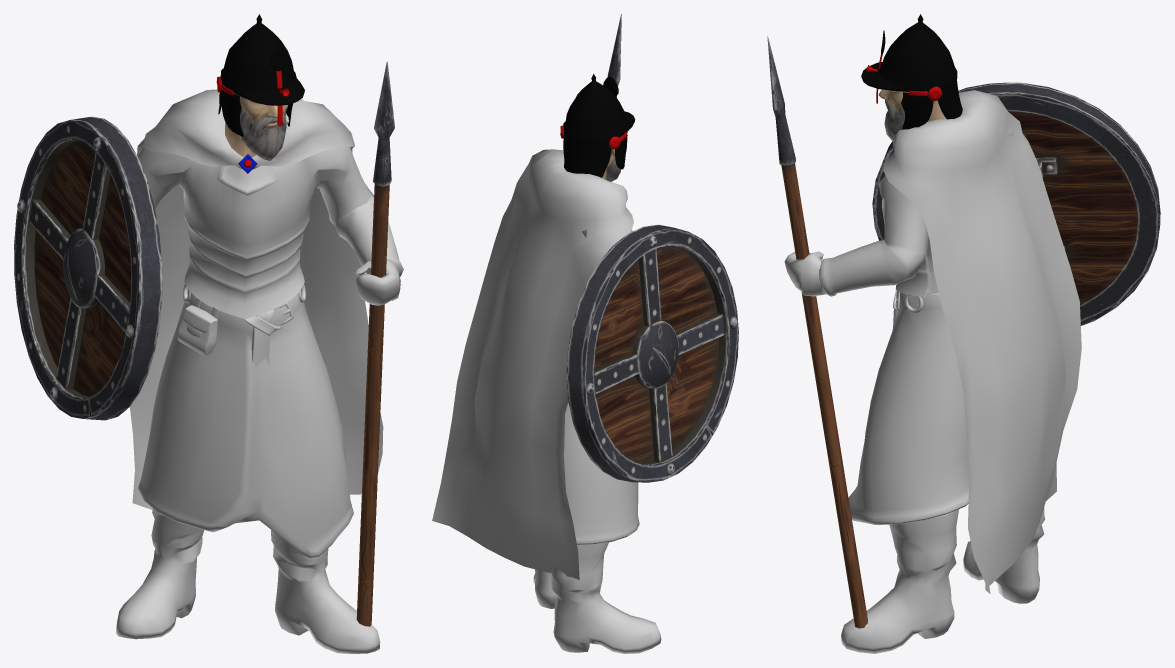
Rendered from guardWood2.fbx.
3 views of the same model, side by side, from view 1: azimuth 30°, elevation 25°; view 2: azimuth 150°, elevation 25°; view 3: azimuth 270°, elevation 25° (orthographic). The views are drawn at different scales.
Visible parts, largest first — view 1: skirt_low1, shield2, cloak_low1, body_low1, boots_low1, bark2, hemlet_low1, head_low1, bag_low1, belt1_low1; view 2: cloak_low1, shield2, boots_low1, skirt_low1, hemlet_low1, bark2; view 3: cloak_low1, shield2, skirt_low1, boots_low1, body_low1, bark2, hemlet_low1, head_low1.
Part boxes in pixels (left/top/right/bottom): skirt_low1: left=138, top=289, right=353, bottom=559; shield2: left=14, top=116, right=162, bottom=420; cloak_low1: left=130, top=89, right=383, bottom=509; body_low1: left=137, top=146, right=403, bottom=319; boots_low1: left=116, top=508, right=380, bottom=653; bark2: left=356, top=61, right=394, bottom=626; hemlet_low1: left=216, top=14, right=304, bottom=136; head_low1: left=225, top=93, right=288, bottom=169; bag_low1: left=177, top=298, right=218, bottom=355; belt1_low1: left=251, top=326, right=269, bottom=367; cloak_low1: left=432, top=149, right=633, bottom=579; shield2: left=566, top=224, right=738, bottom=482; boots_low1: left=533, top=542, right=661, bottom=653; skirt_low1: left=564, top=402, right=639, bottom=545; hemlet_low1: left=560, top=74, right=635, bottom=177; bark2: left=607, top=14, right=621, bottom=97; cloak_low1: left=883, top=90, right=1081, bottom=593; shield2: left=872, top=82, right=1160, bottom=325; skirt_low1: left=848, top=292, right=969, bottom=524; boots_low1: left=841, top=507, right=1044, bottom=653; body_low1: left=784, top=129, right=1042, bottom=296; bark2: left=767, top=36, right=867, bottom=628; hemlet_low1: left=861, top=14, right=962, bottom=129; head_low1: left=878, top=89, right=946, bottom=141.
Size of the model in its own units: 92.71 by 181 by 108.
